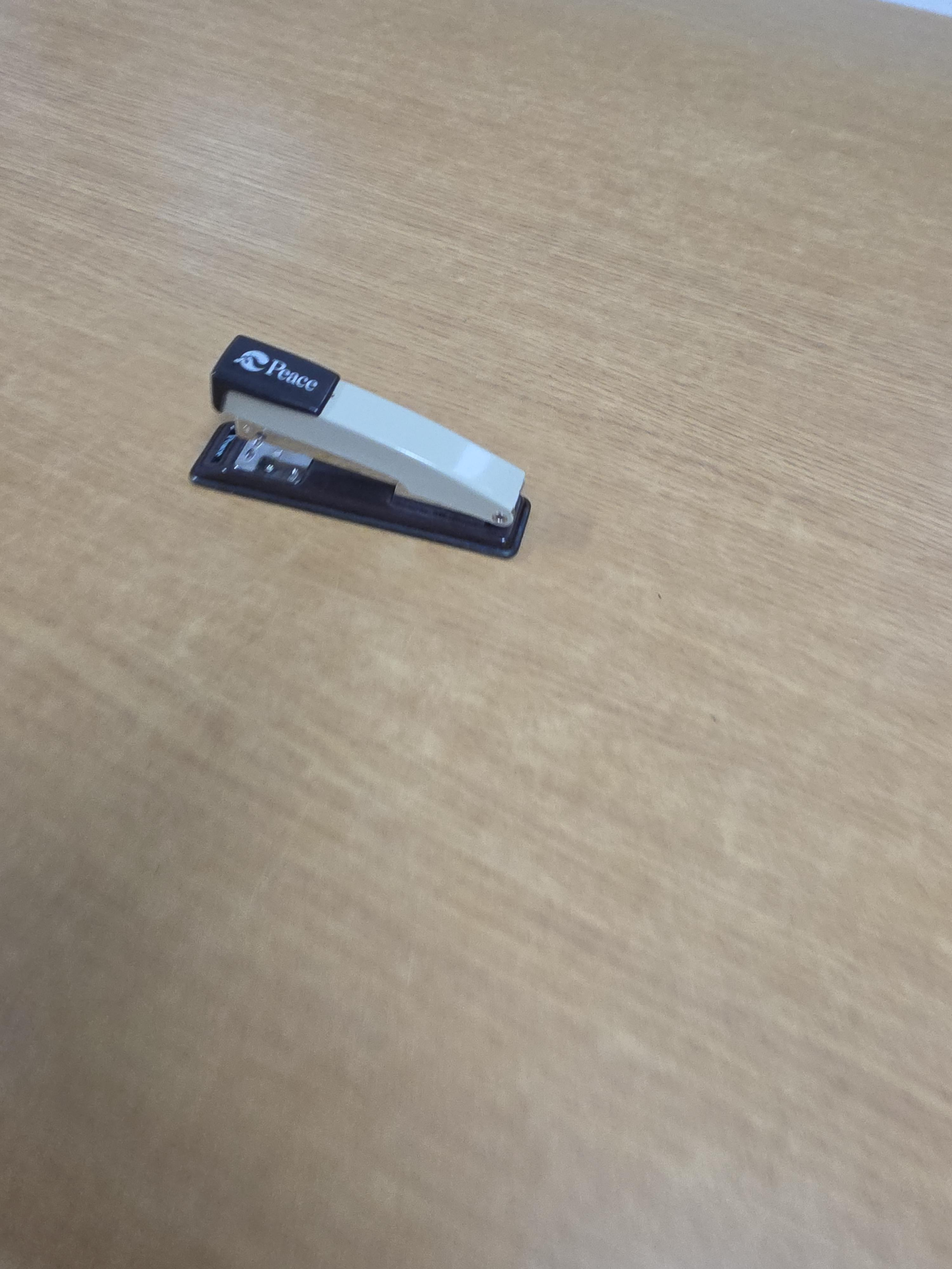stapler: (189, 334, 532, 560)
